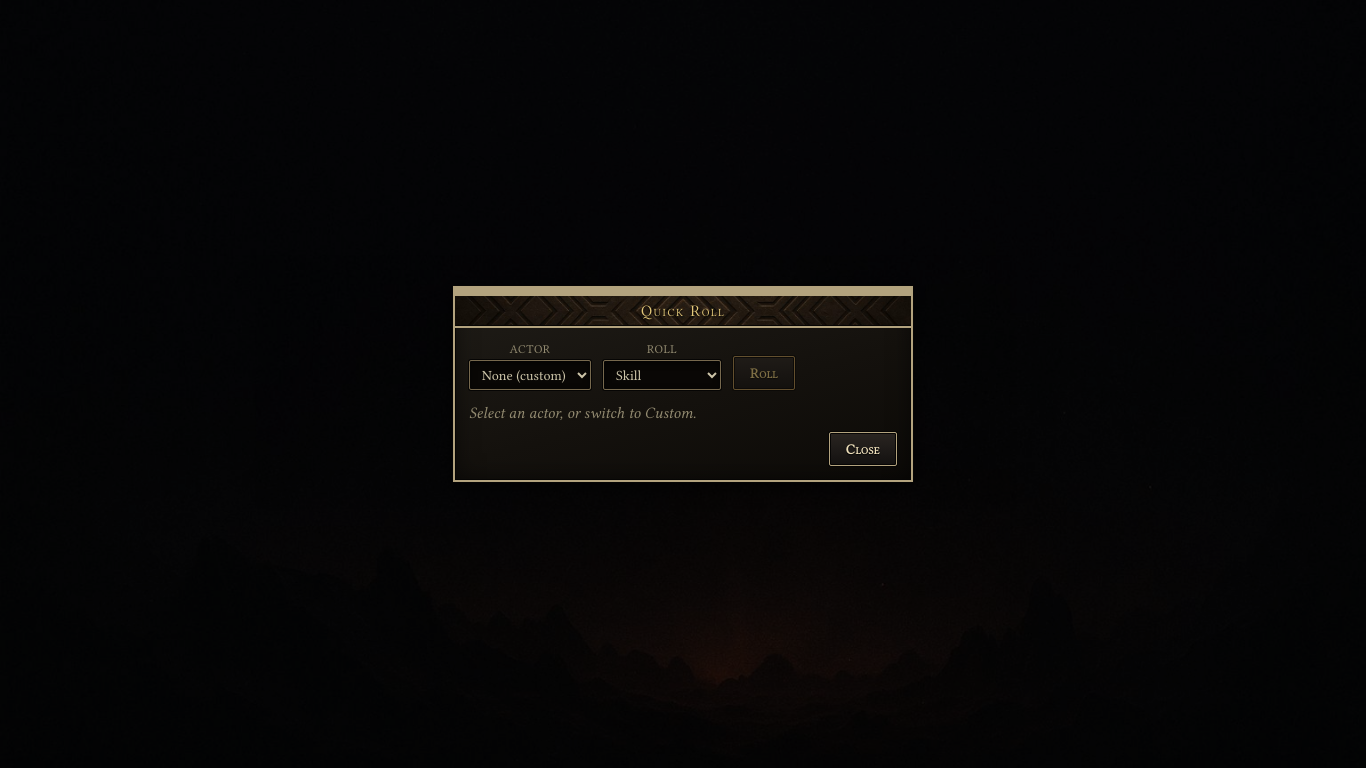
Scenario: custom rolls work with no scene open and no actor selected
Expected: the button "Roll" is disabled, x1=733 y1=356 x2=795 y2=390
Select "Custom" in the dropdown labelled "Roll" at (662, 375), box x1=603 y1=360 x2=721 y2=390
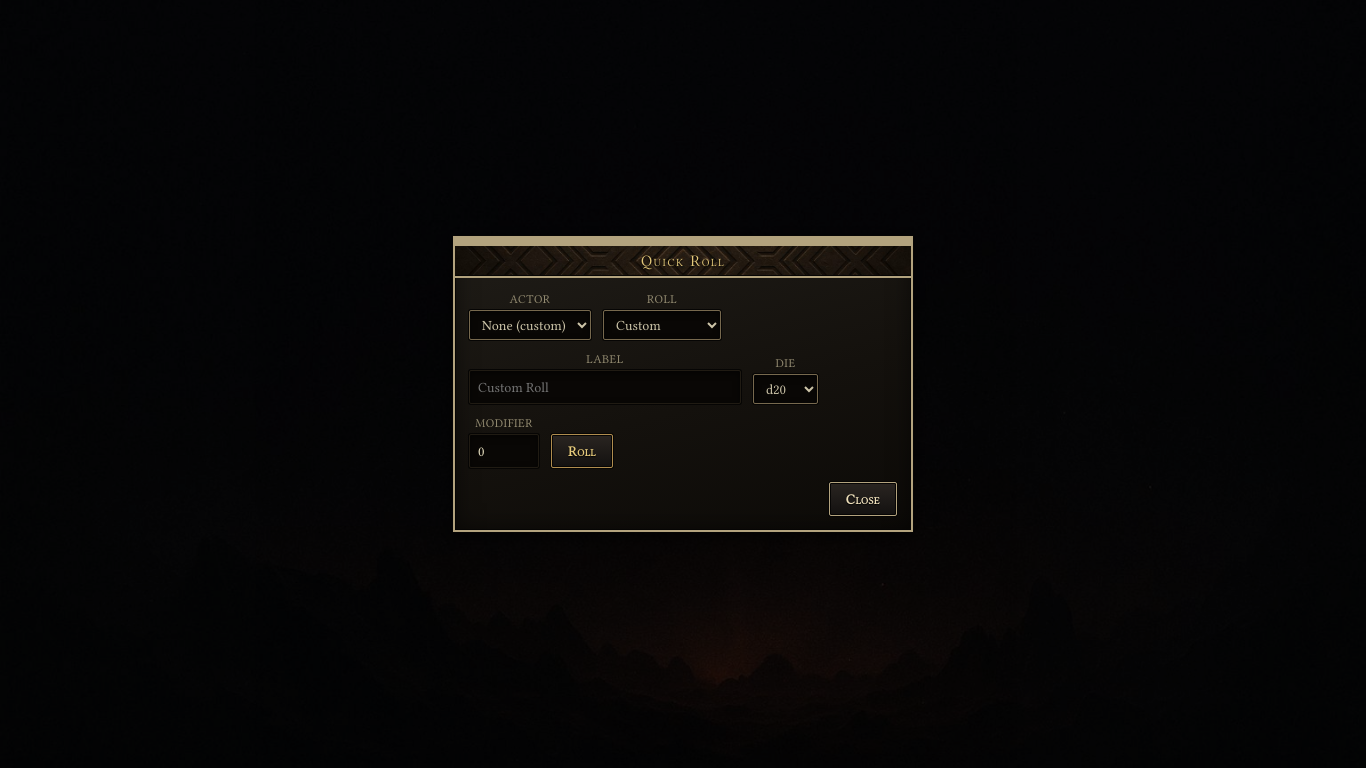
Type "Secret Door" into the field labelled "Label" at (605, 387), box x1=469 y1=370 x2=741 y2=404
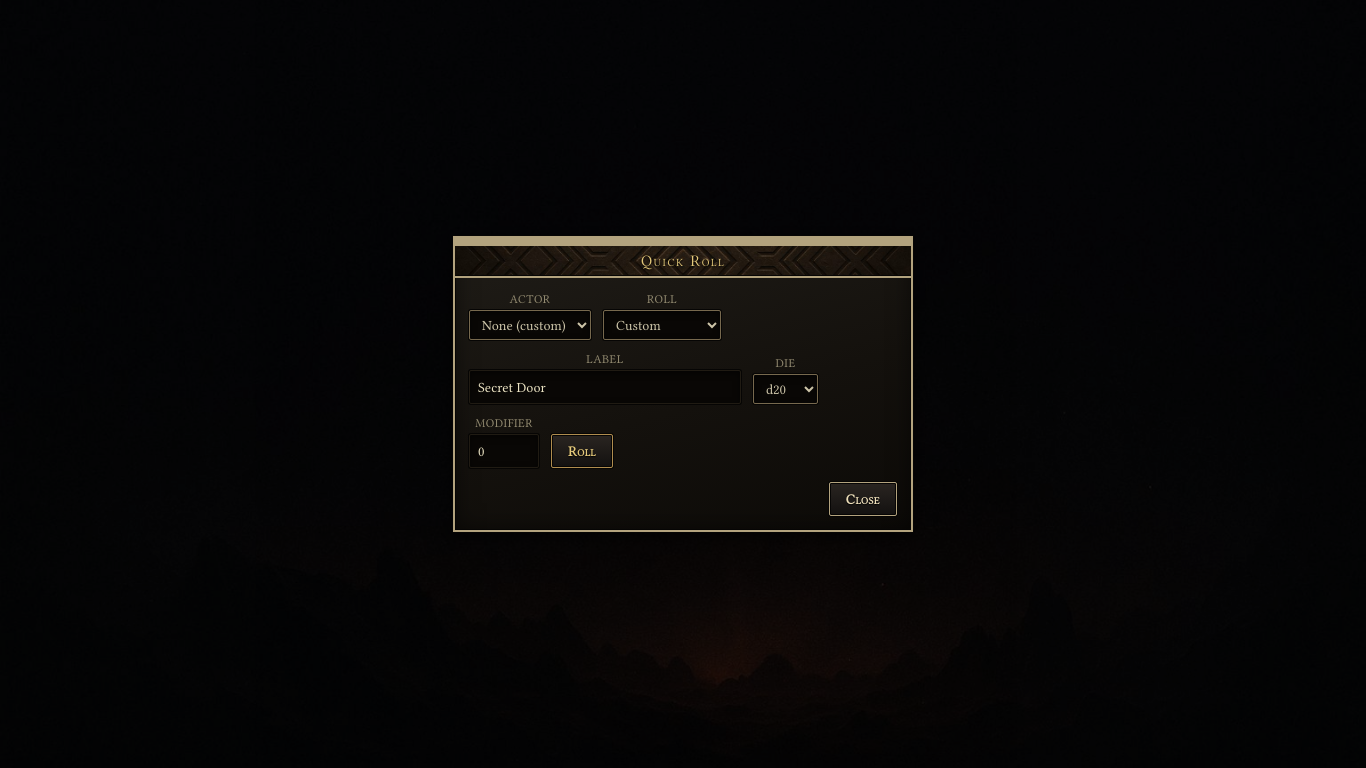
Select "d100" in the dropdown labelled "Die" at (786, 389), box x1=753 y1=374 x2=818 y2=404
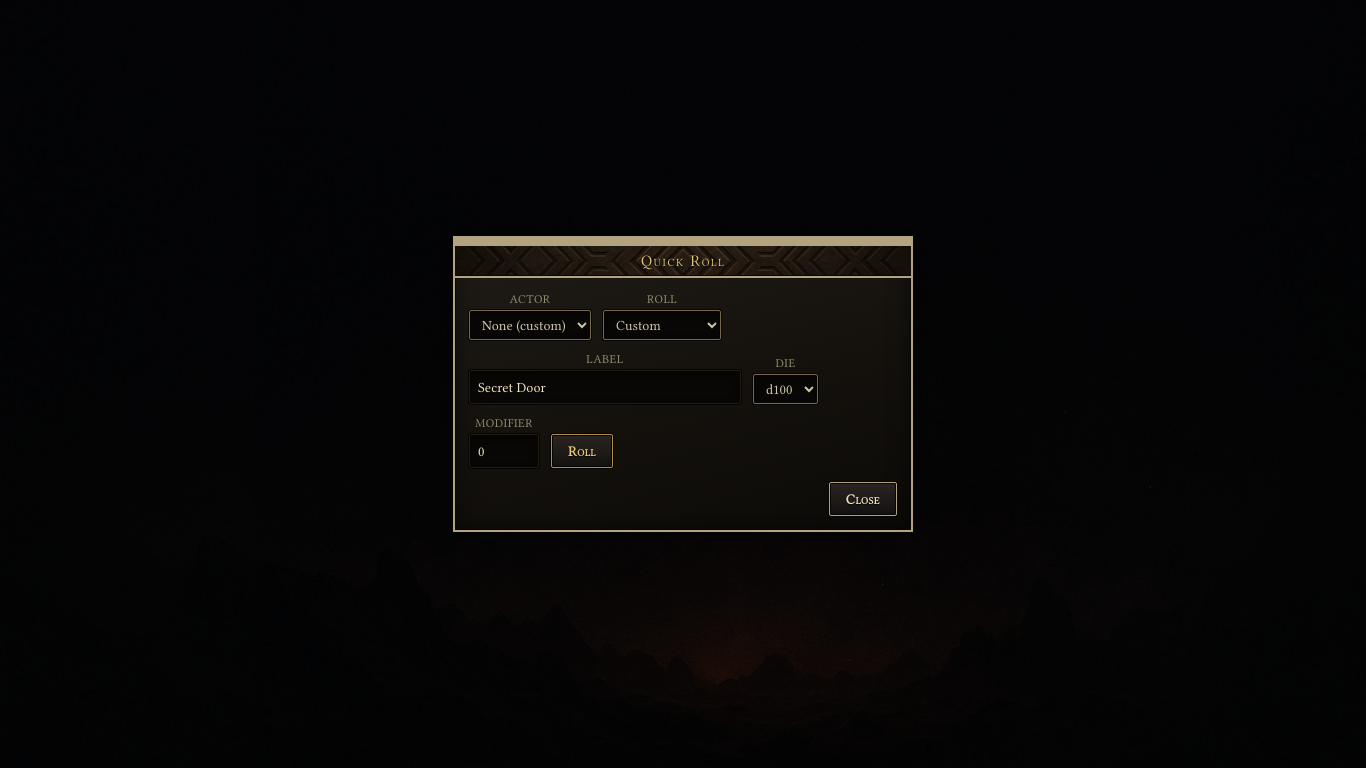
Replace the text in the number field labelled "Modifier" with "3" at (504, 451), box x1=469 y1=434 x2=539 y2=468
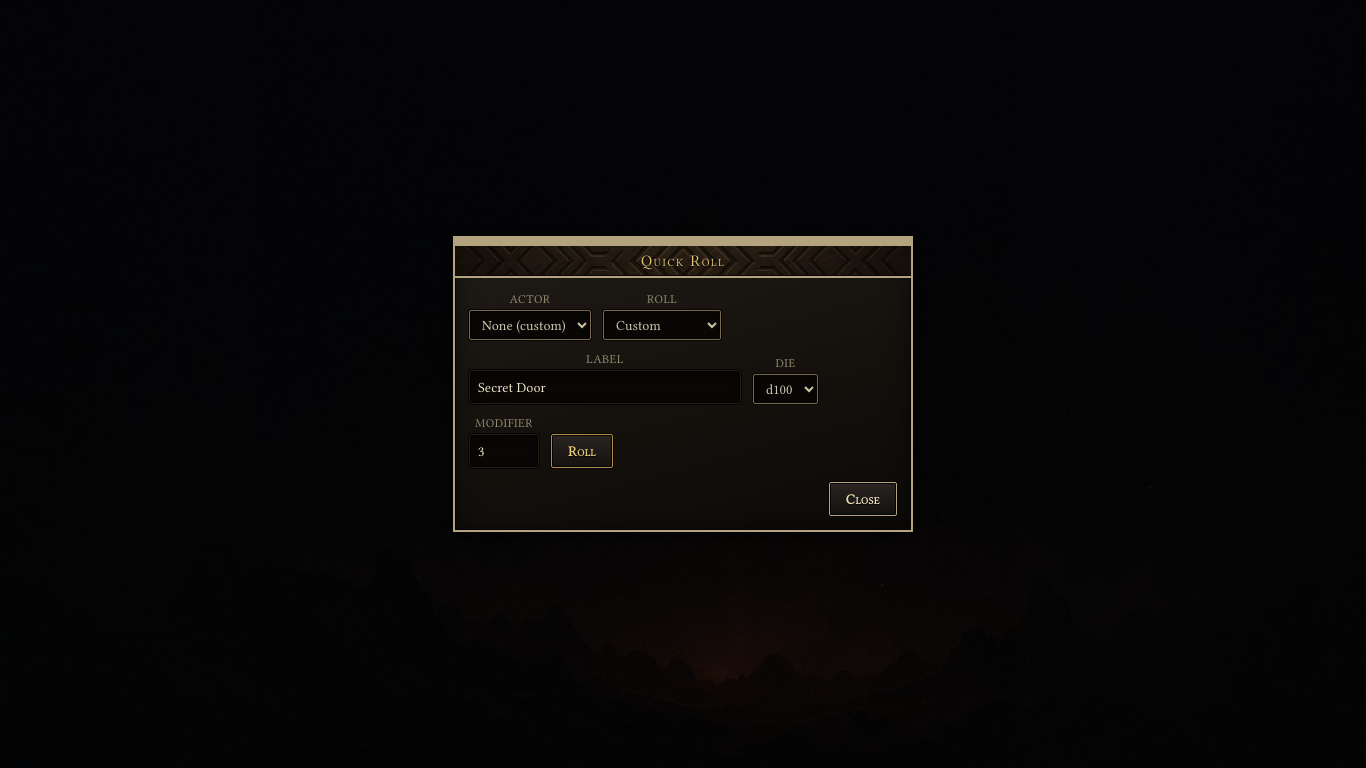
Click the button "Roll" at (582, 451), box x1=551 y1=434 x2=613 y2=468
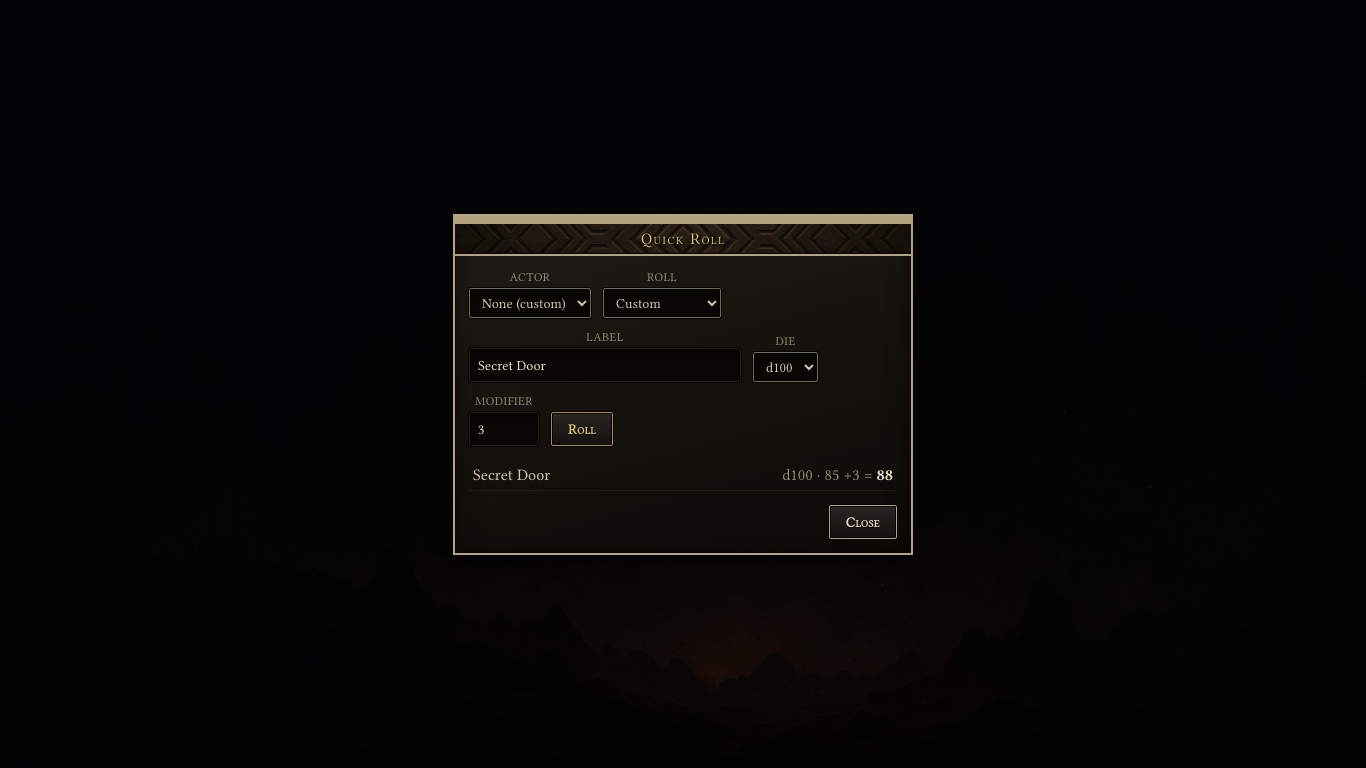
Now the text "Secret Door" is shown, box x1=473 y1=466 x2=550 y2=484
